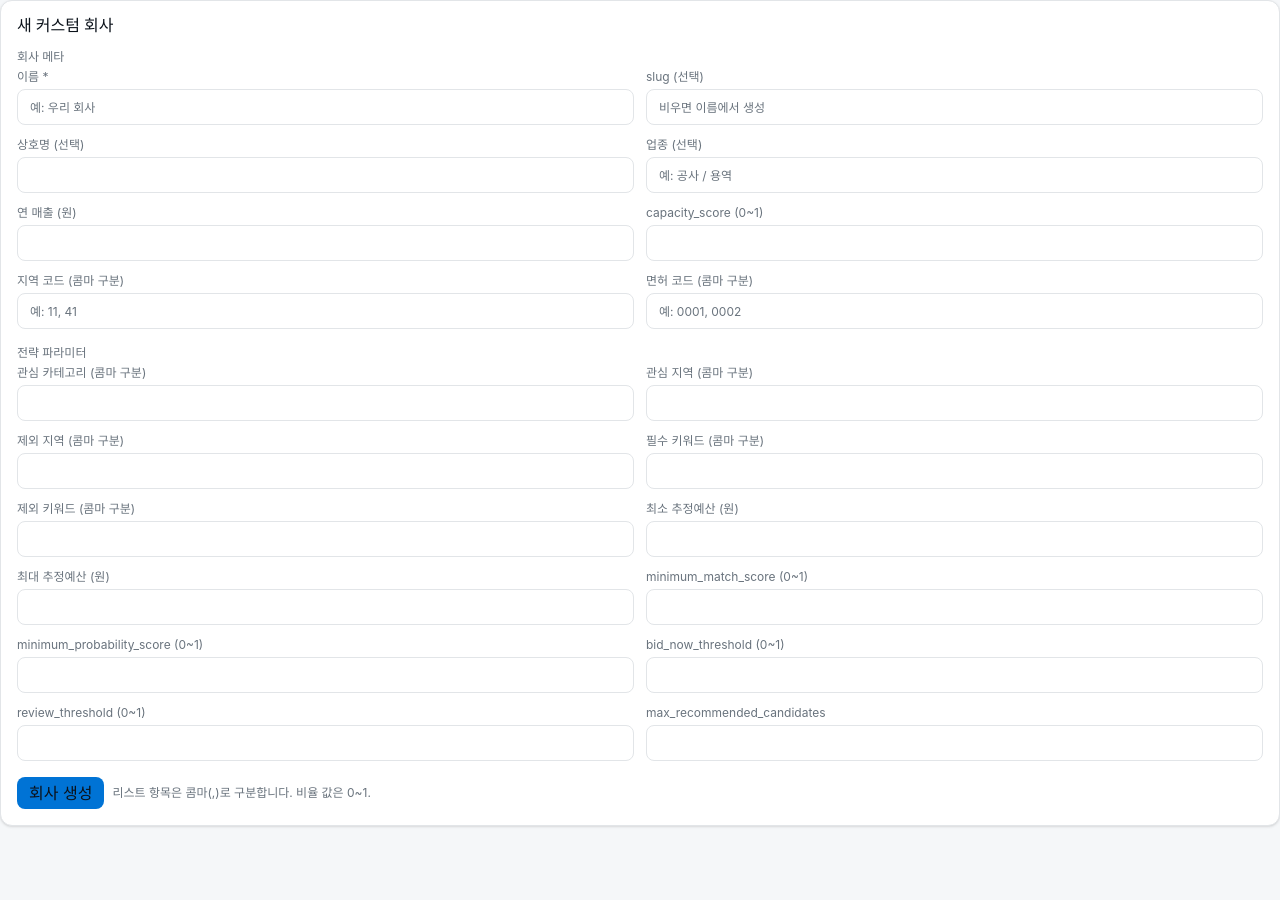
Scenario: CustomOperatorForm › rejects a probability threshold outside the 0~1 range
Type "범위 테스트" into the field labelled "이름" at point(326, 107), box [17,89,634,125]
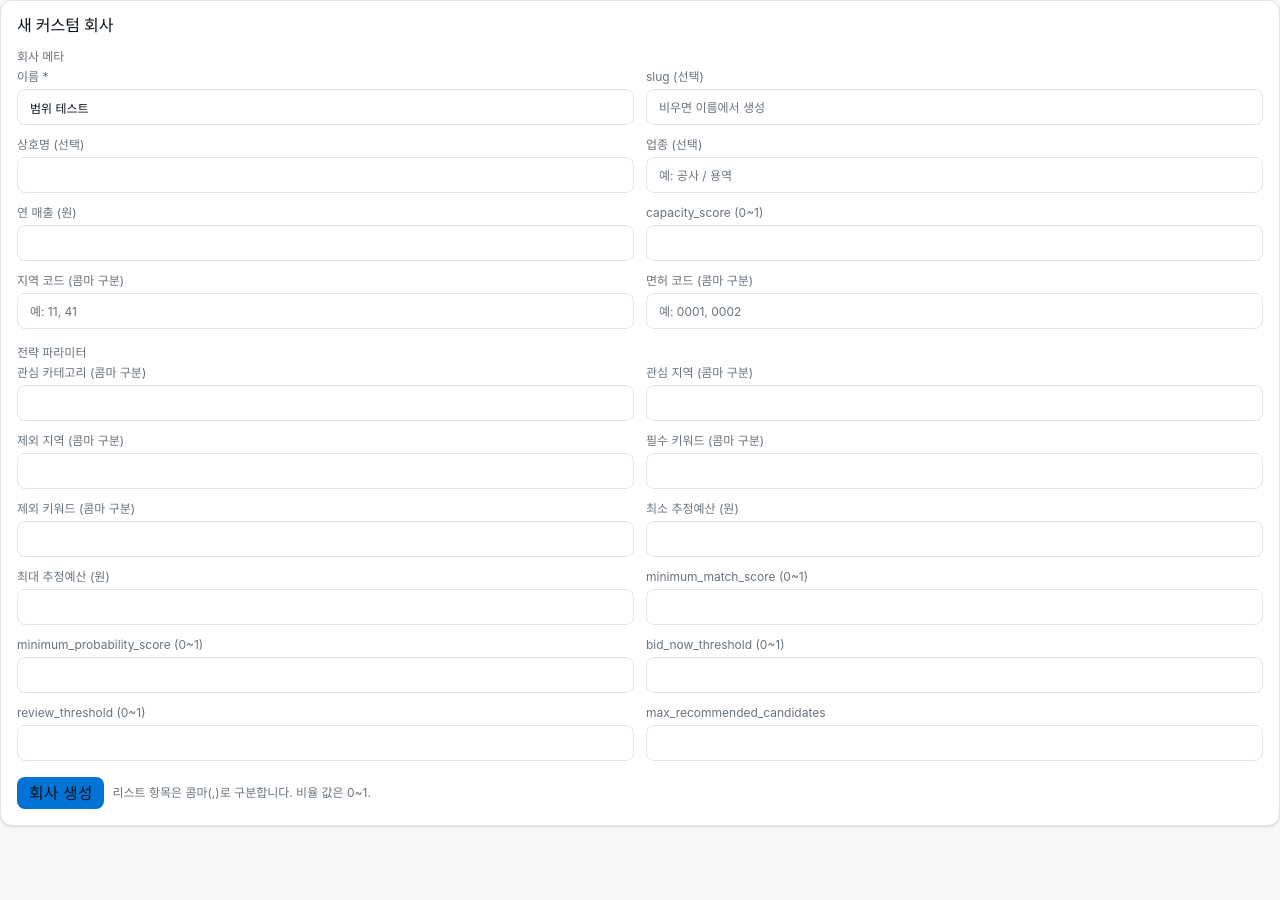
Type "1.5" into the number field labelled "bid_now_threshold" at point(954, 675), box [646,657,1263,693]
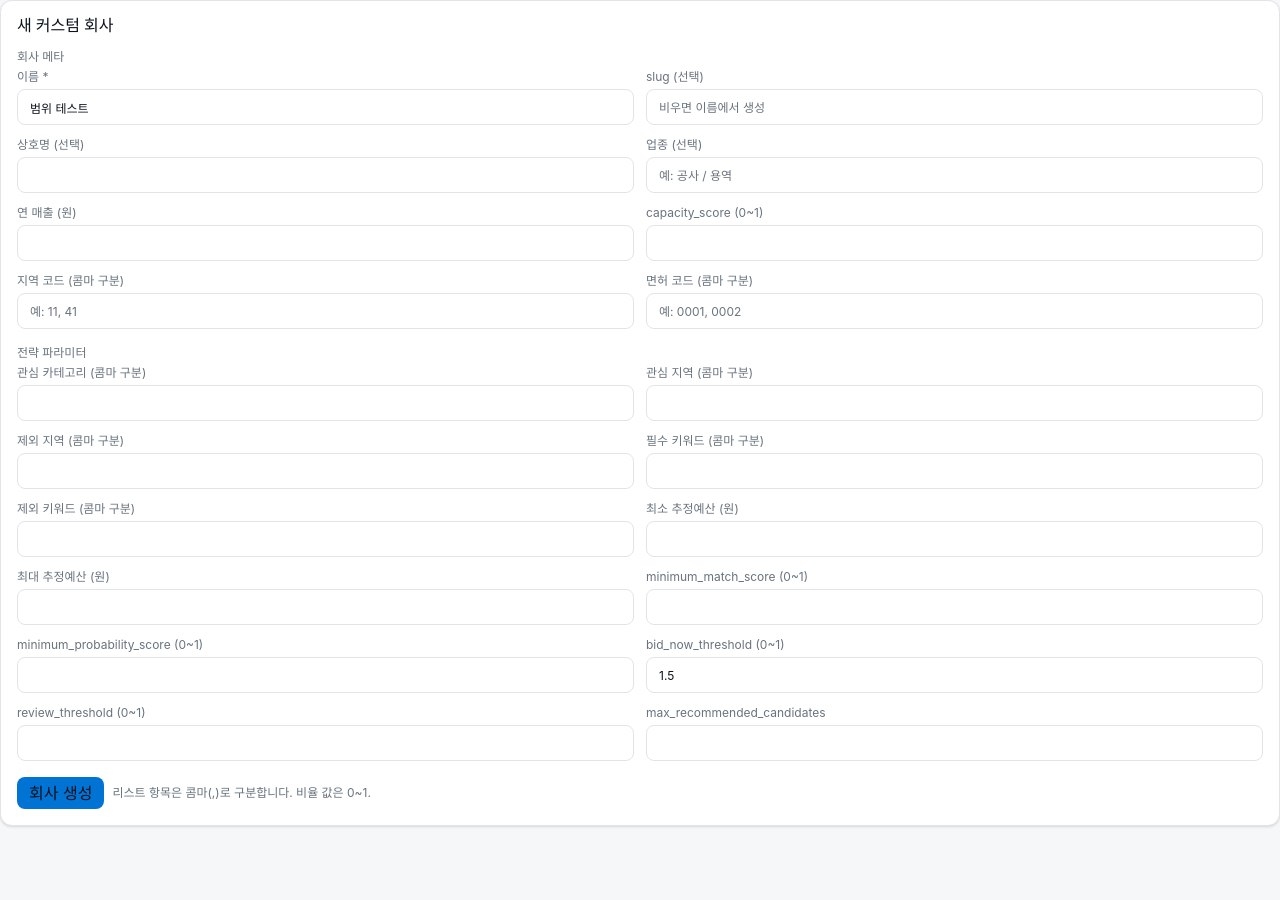
Click the button "회사 생성" at point(61, 793), box [17,777,104,809]
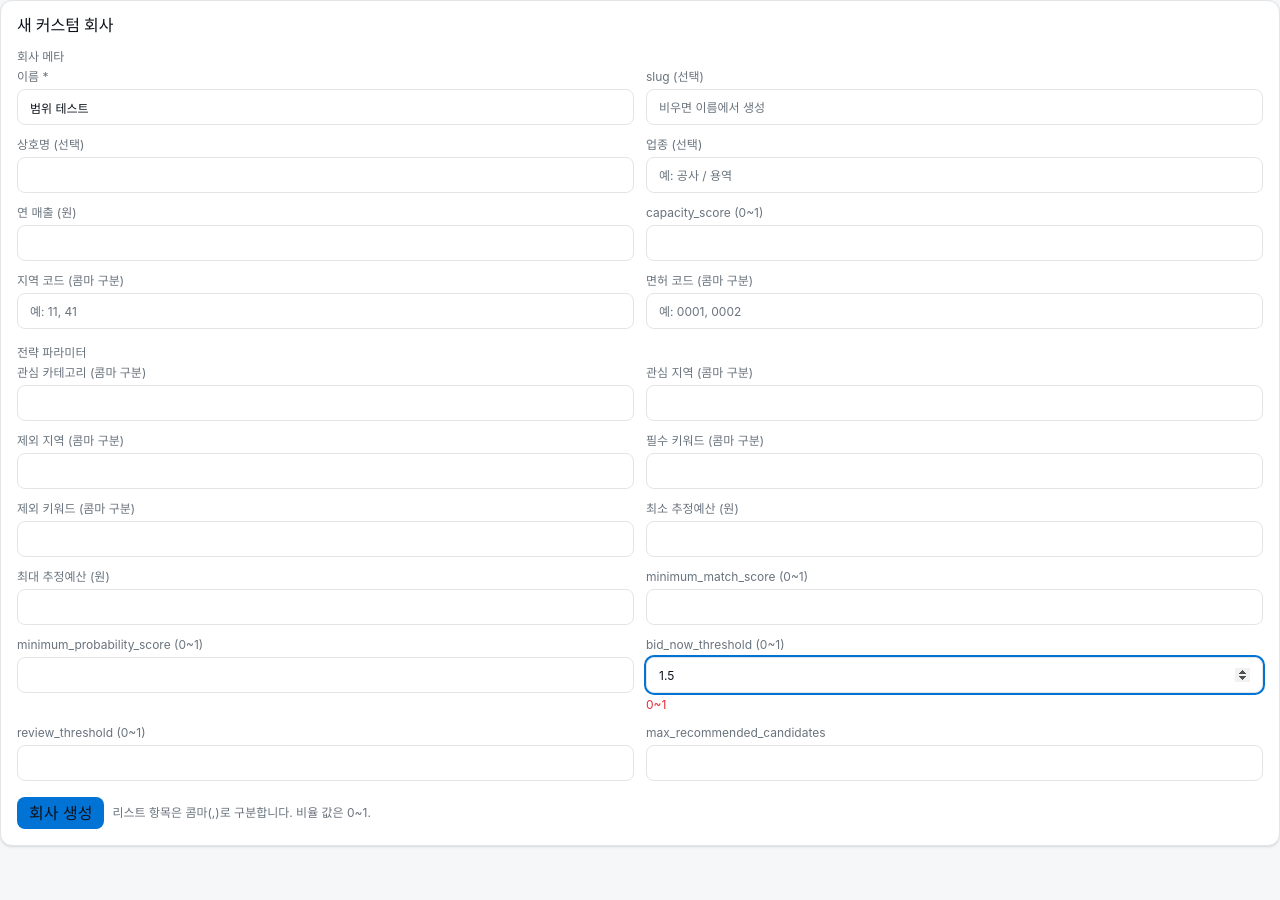
Result: the text "0~1" is shown at [646,697,666,712]
